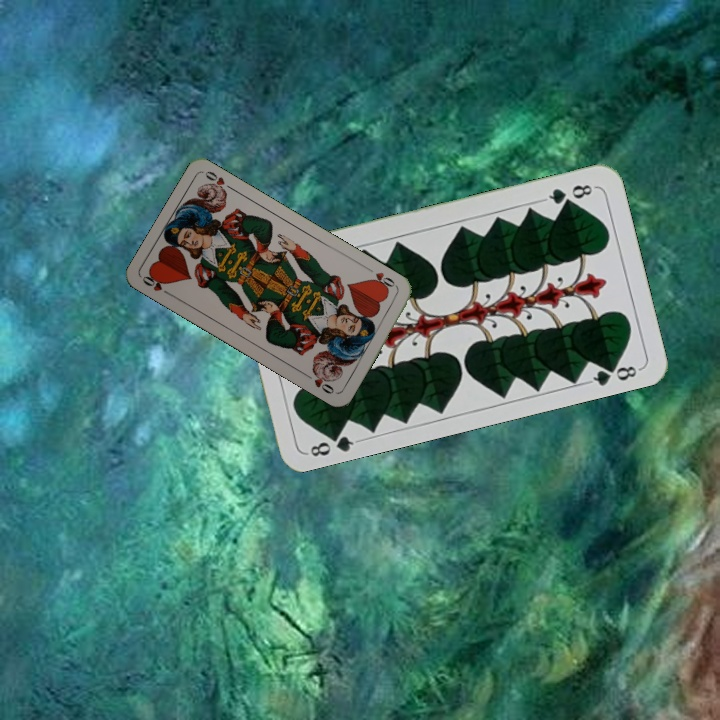G8: (304, 426, 362, 460), (539, 180, 598, 207)
HO: (363, 264, 400, 294), (138, 269, 175, 299)
